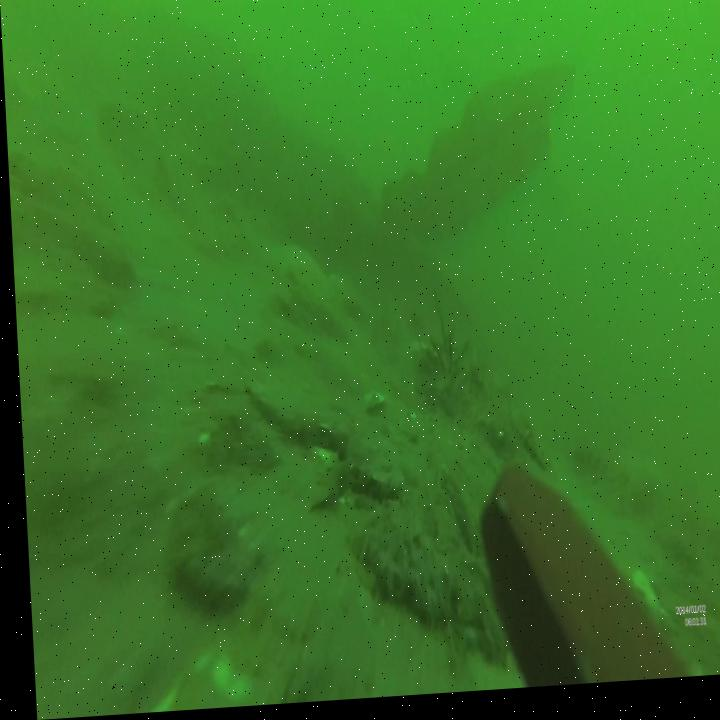holothurian: (246, 386, 348, 467), (344, 469, 392, 512)
starfish: (265, 245, 331, 314)
